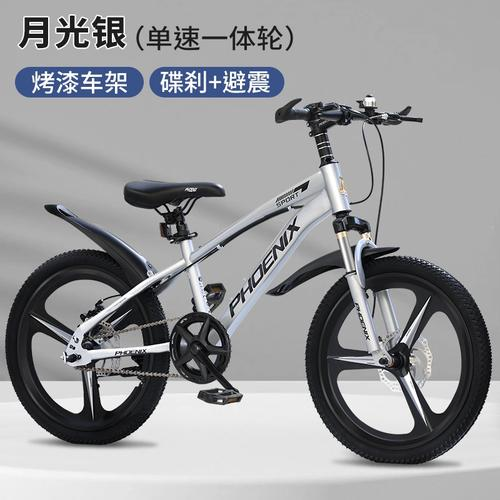单车: (6, 89, 500, 473)
